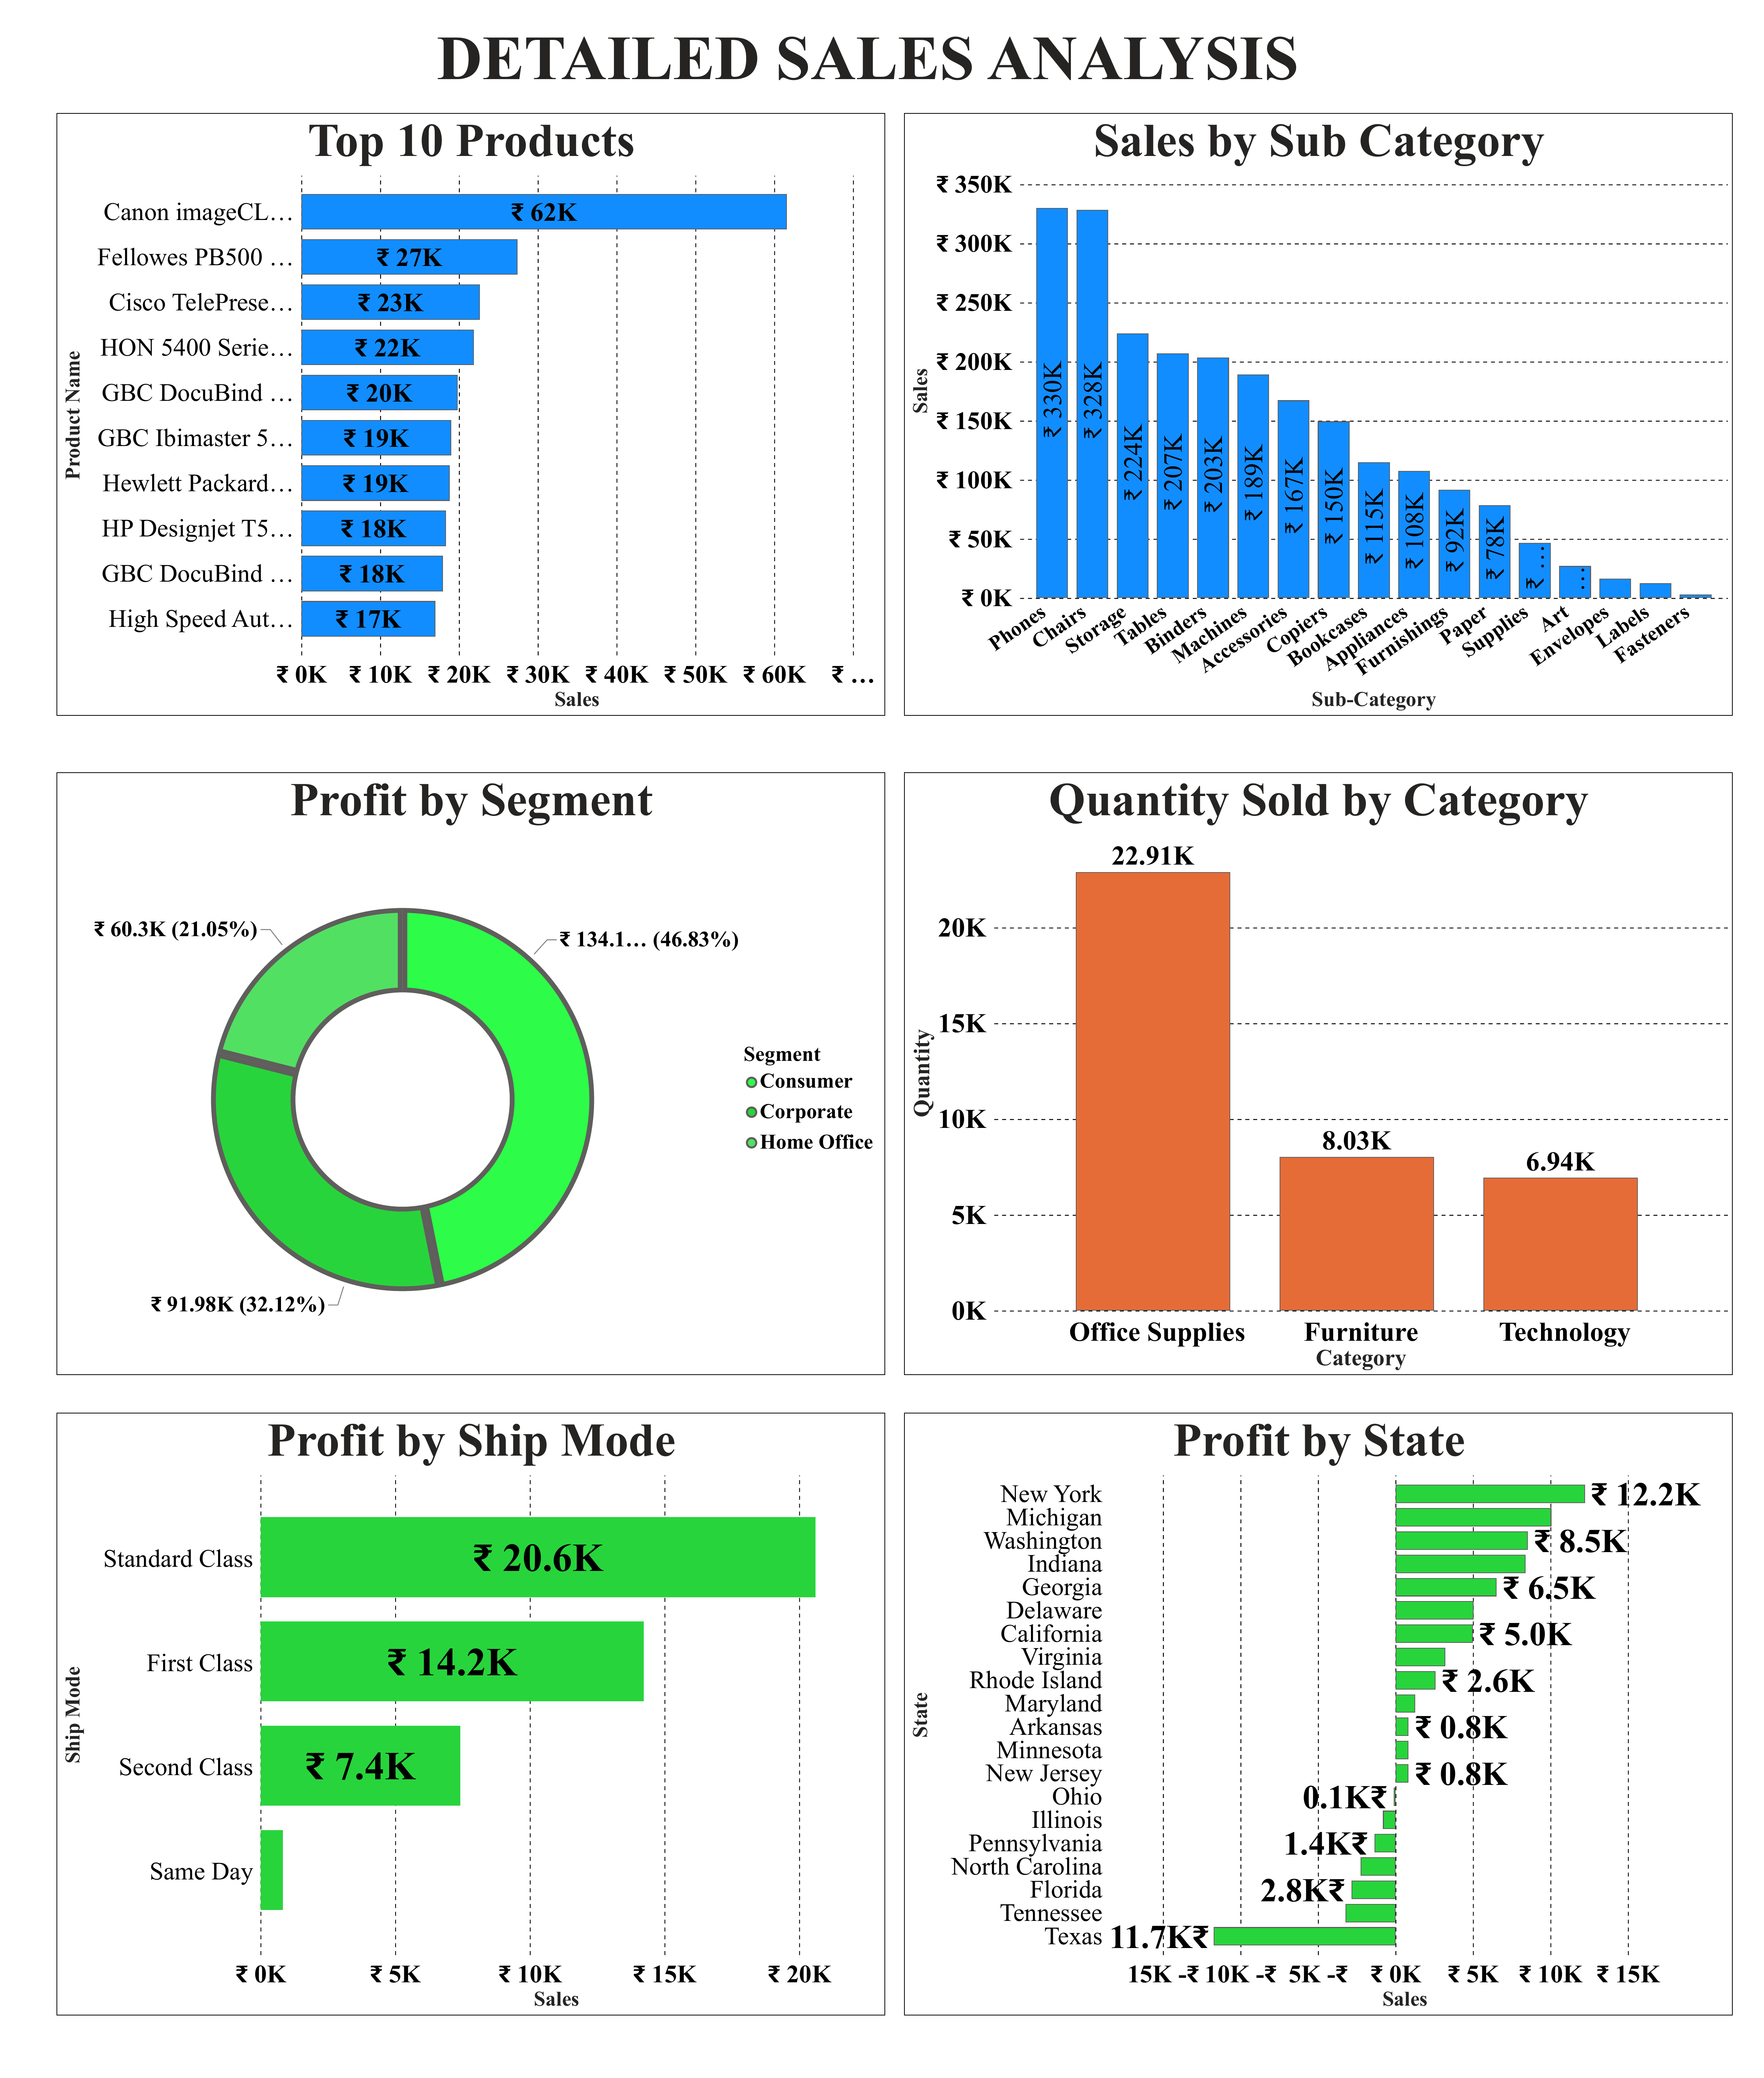

The dashboard page shown, as its layout file describes it:
{"tool":"powerbi","page":{"name":"Detailed Analysis","canvas":[2200,2600],"ordinal":1},"visuals":[{"type":"clusteredBarChart","title":"Top 10 Products","fields":{"Y":["Sum(Sample_Superstore_Cleaned_UTF8.Sales)"],"Category":["Sample_Superstore_Cleaned_UTF8.Product Name"]},"box":[48,120,1056,768],"z":0},{"type":"clusteredColumnChart","title":"Sales by Sub Category","fields":{"Y":["Sum(Sample_Superstore_Cleaned_UTF8.Sales)"],"Category":["Sample_Superstore_Cleaned_UTF8.Sub-Category"]},"box":[1128,120,1056,768],"z":1000},{"type":"textbox","box":[528,0,1128,120],"z":2000},{"type":"donutChart","title":"Profit by Segment","fields":{"Y":["Sum(Sample_Superstore_Cleaned_UTF8.Profit)"],"Category":["Sample_Superstore_Cleaned_UTF8.Segment"]},"box":[48,960,1056,768],"z":3000},{"type":"clusteredColumnChart","title":"Quantity Sold by Category","fields":{"Y":["Sum(Sample_Superstore_Cleaned_UTF8.Quantity)"],"Category":["Sample_Superstore_Cleaned_UTF8.Category"]},"box":[1128,960,1056,768],"z":4000},{"type":"clusteredBarChart","title":"Profit by Ship Mode","fields":{"Y":["Sum(Sample_Superstore_Cleaned_UTF8.Profit)"],"Category":["Sample_Superstore_Cleaned_UTF8.Ship Mode"]},"box":[48,1776,1056,768],"z":5000},{"type":"clusteredBarChart","title":"Profit by State","fields":{"Category":["Sample_Superstore_Cleaned_UTF8.State"],"Y":["Sum(Sample_Superstore_Cleaned_UTF8.Profit)"]},"box":[1128,1776,1056,768],"z":6000}]}

Visuals, with their boxes on the page's 2200x2600 design canvas (x1, y1, x2, y2). These are canvas units, not pixel positions in the 1764x2078 screenshot, which may show the page scaled, cropped or inside an application window:
"Top 10 Products" clusteredBarChart: bbox=(48, 120, 1104, 888)
"Sales by Sub Category" clusteredColumnChart: bbox=(1128, 120, 2184, 888)
textbox: bbox=(528, 0, 1656, 120)
"Profit by Segment" donutChart: bbox=(48, 960, 1104, 1728)
"Quantity Sold by Category" clusteredColumnChart: bbox=(1128, 960, 2184, 1728)
"Profit by Ship Mode" clusteredBarChart: bbox=(48, 1776, 1104, 2544)
"Profit by State" clusteredBarChart: bbox=(1128, 1776, 2184, 2544)
